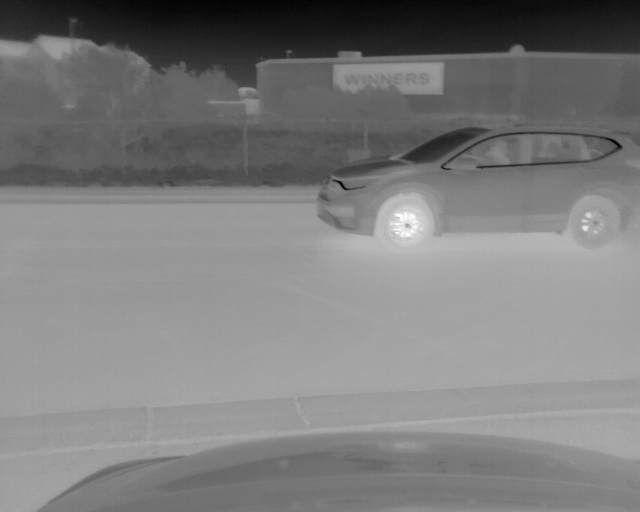car: (318, 124, 640, 245)
